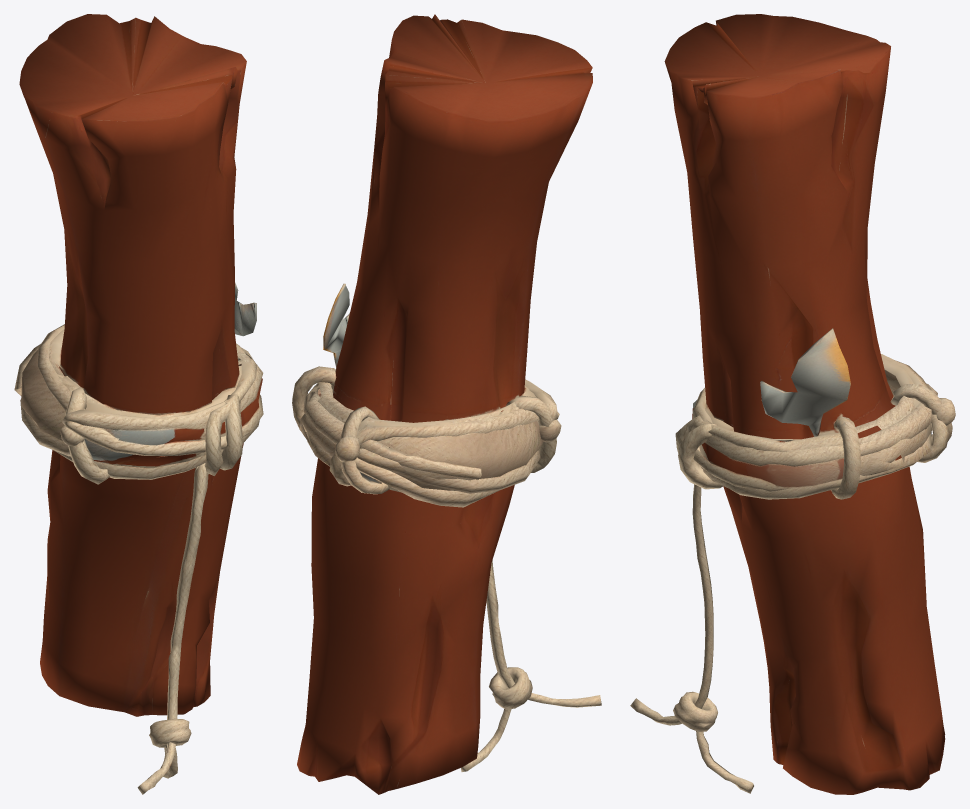
File: bark-bracer_refine.glb
3 renders of one model, left to right at view 1: azimuth 30°, elevation 25°; view 2: azimuth 150°, elevation 25°; view 3: azimuth 270°, elevation 25°, orthographic. The views are drawn at different scales.
Bounding box in the file's own units: 0.335 × 0.9521 × 0.3794.
1 material, 1 textured.
